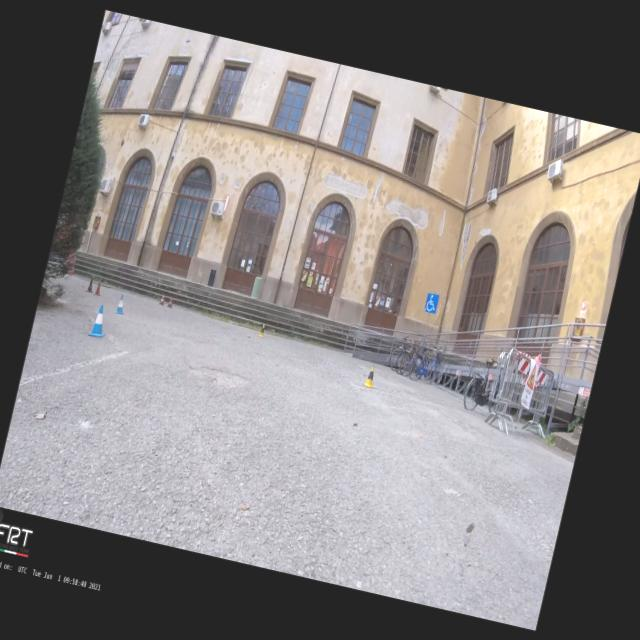blue_cone: (87, 303, 111, 339), (114, 294, 127, 314)
large_orange_cone: (166, 294, 174, 308), (158, 292, 166, 306)
unknown_cone: (84, 276, 96, 294), (92, 280, 104, 296)
yellow_cone: (361, 364, 379, 388), (256, 322, 266, 338)
